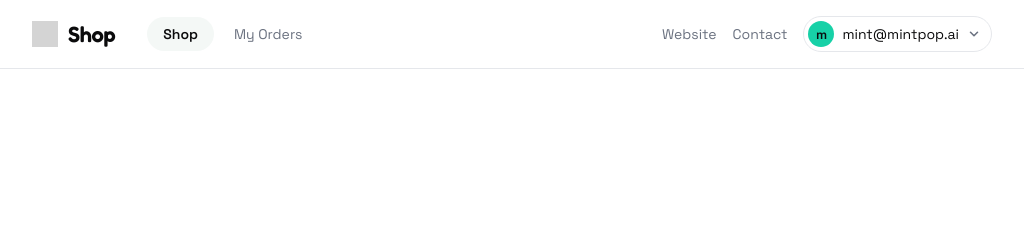
Scenario: 登录用户菜单 › 没昵称时用邮箱代替，展开后身份区不重复显示邮箱
The image size is (1024, 239).
Expected: the text with class "nickname" reads "mint@mintpop.ai", [842,25,959,43]
Click the button with class "user-trigger". click: (898, 34)
box: [803,16,992,52]
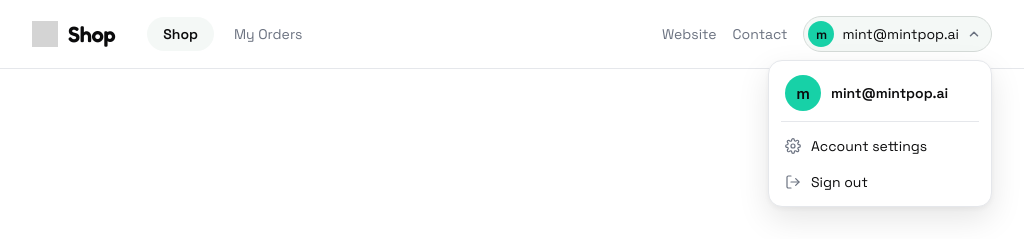
Expected: the text with class "identity-name" reads "mint@mintpop.ai", [831,84,948,102]
